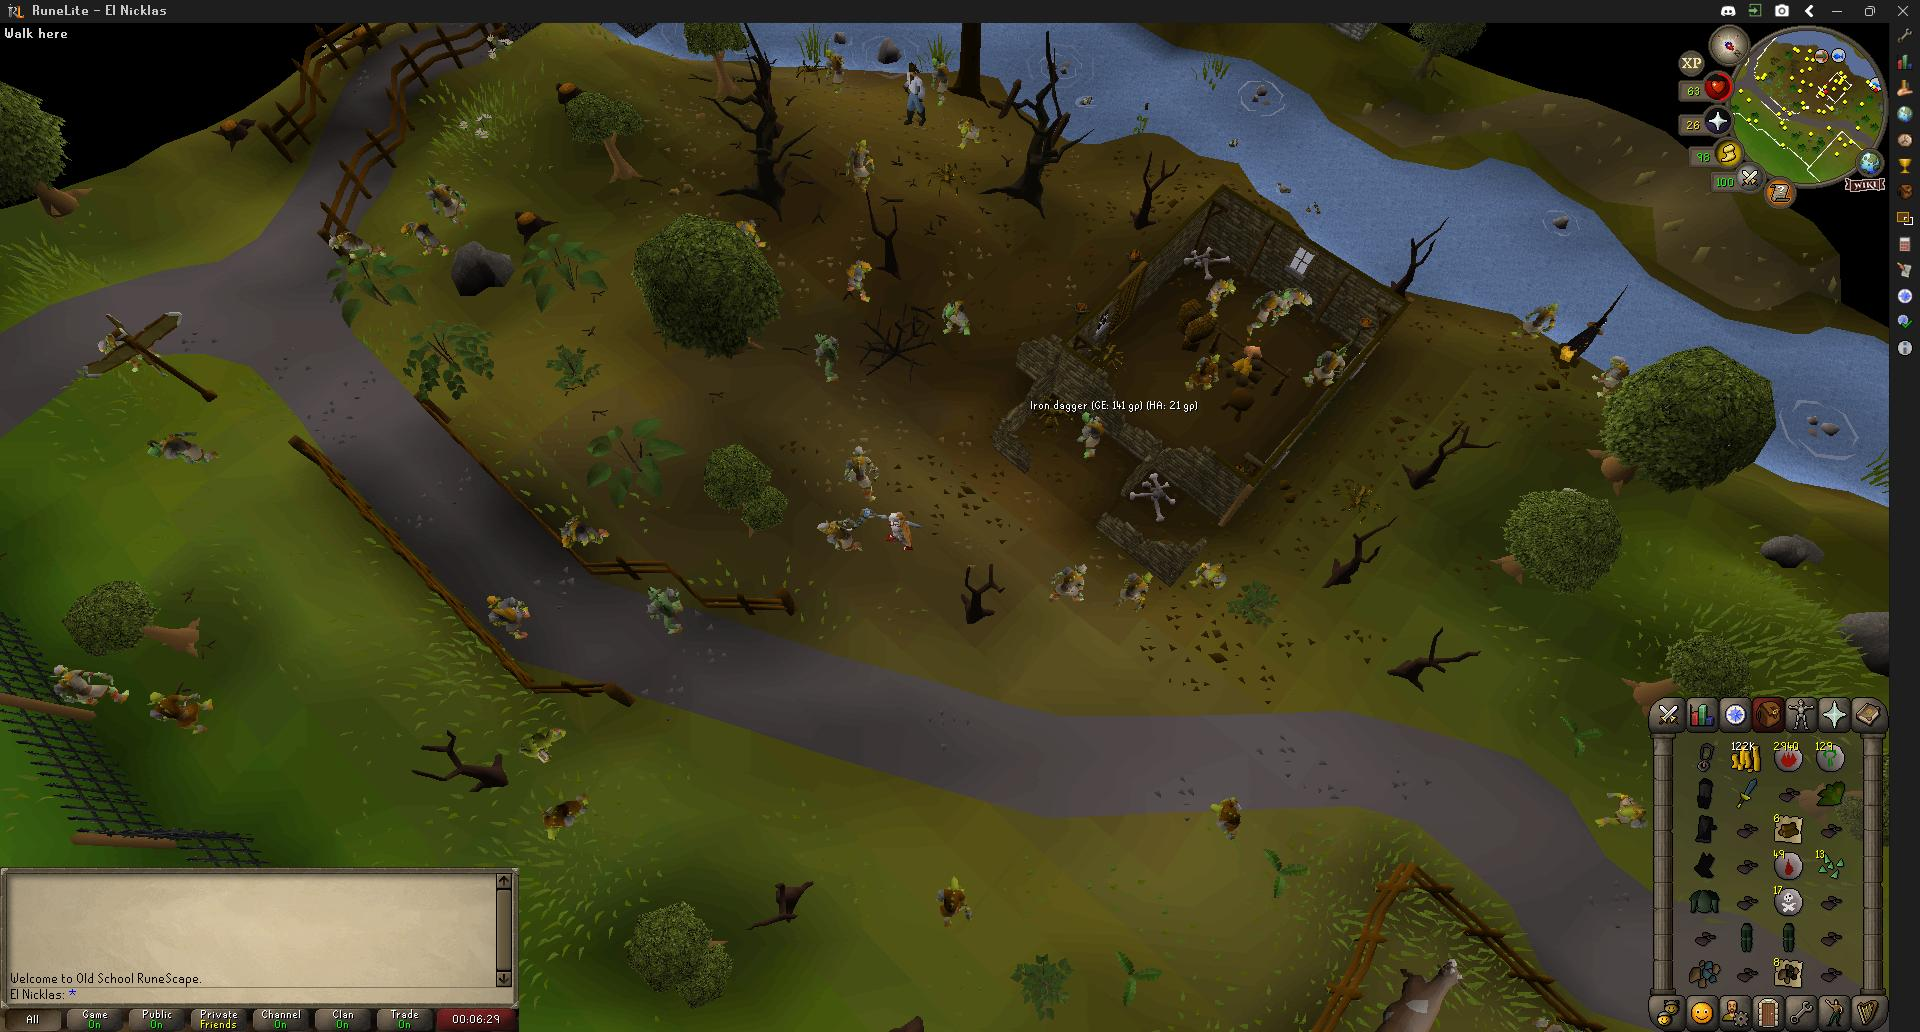goblin: (51, 666, 133, 708), (147, 682, 215, 733), (1250, 286, 1313, 334), (643, 581, 691, 639), (145, 432, 220, 465), (540, 793, 588, 840), (426, 174, 469, 225), (329, 227, 386, 264), (842, 442, 879, 499), (559, 515, 614, 553), (402, 217, 454, 257), (485, 592, 531, 635), (1596, 791, 1648, 827), (517, 724, 567, 763), (815, 513, 864, 552), (1302, 346, 1343, 390), (1591, 355, 1630, 398), (1184, 351, 1224, 393), (1516, 302, 1558, 342), (1048, 563, 1089, 602), (882, 510, 921, 550), (1114, 571, 1153, 611), (1198, 277, 1240, 314), (939, 874, 971, 923), (1211, 796, 1244, 840), (845, 139, 873, 191), (1076, 411, 1105, 459), (813, 334, 840, 381), (846, 258, 874, 302), (1188, 559, 1227, 590), (736, 219, 769, 250), (942, 300, 971, 336), (825, 48, 846, 89), (957, 117, 982, 150), (933, 62, 952, 102)
